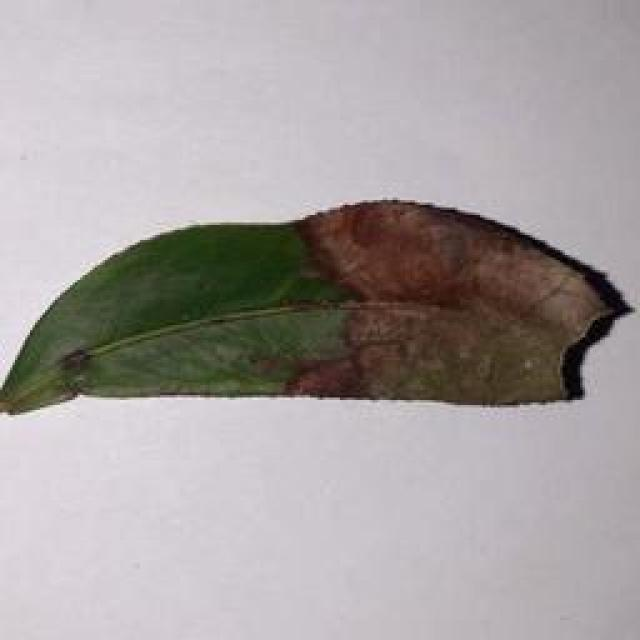Brown Blight: (0, 164, 640, 450)
